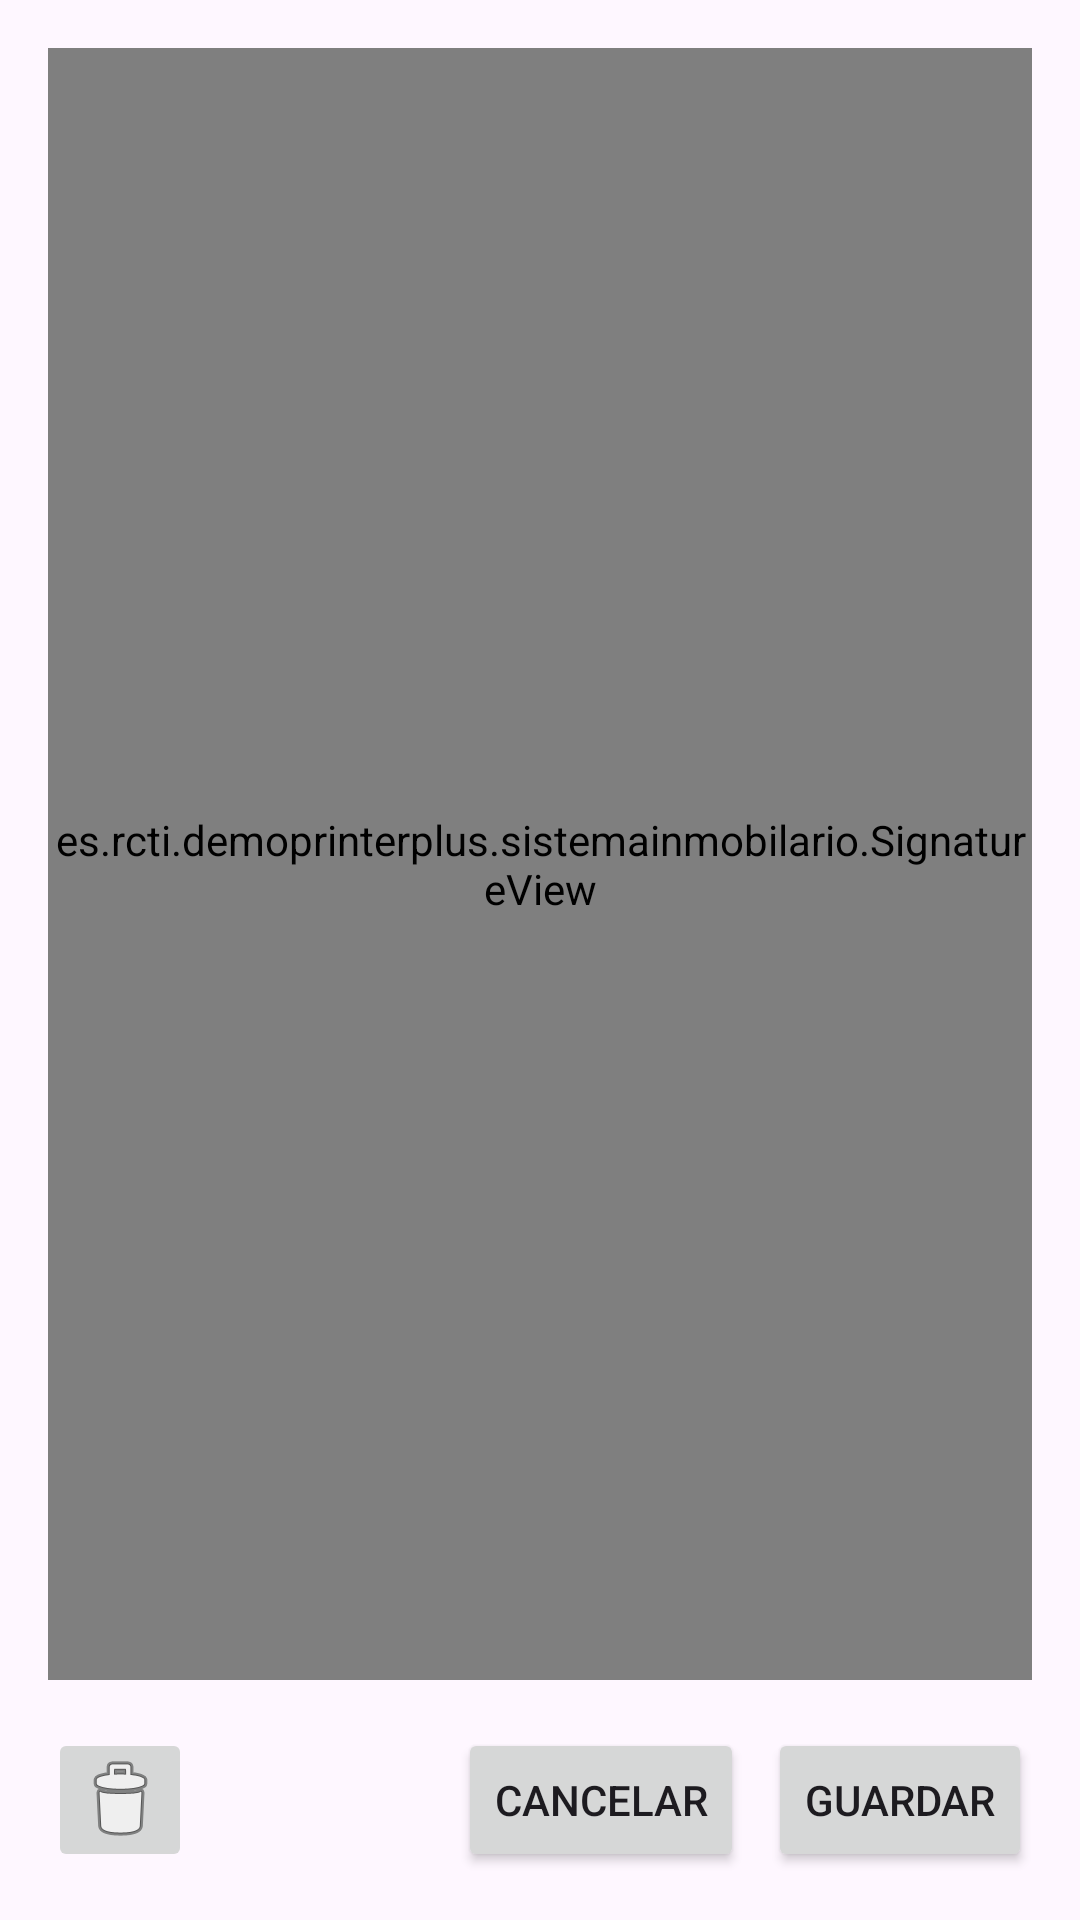

Icons on this 1080px x 1920px Android screen, each with its box as (x1, y1, x2, y2):
Borrar firma: (60, 1746, 180, 1854)
